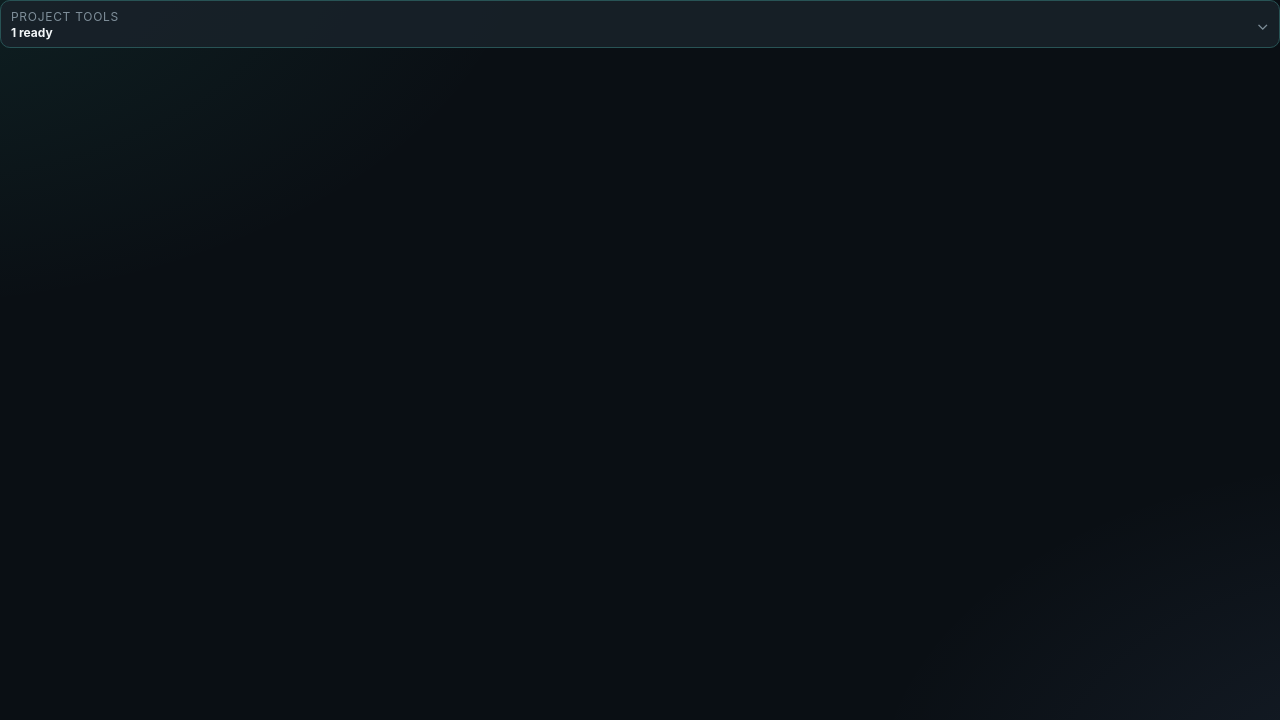
Test: AgentMcpProjectToolsPanel › ignores a late response from the previously active project
Expected: the text "1 ready" is shown, [11,24,53,40]
Click the text "Project tools" at (65, 16), box [11,9,119,24]
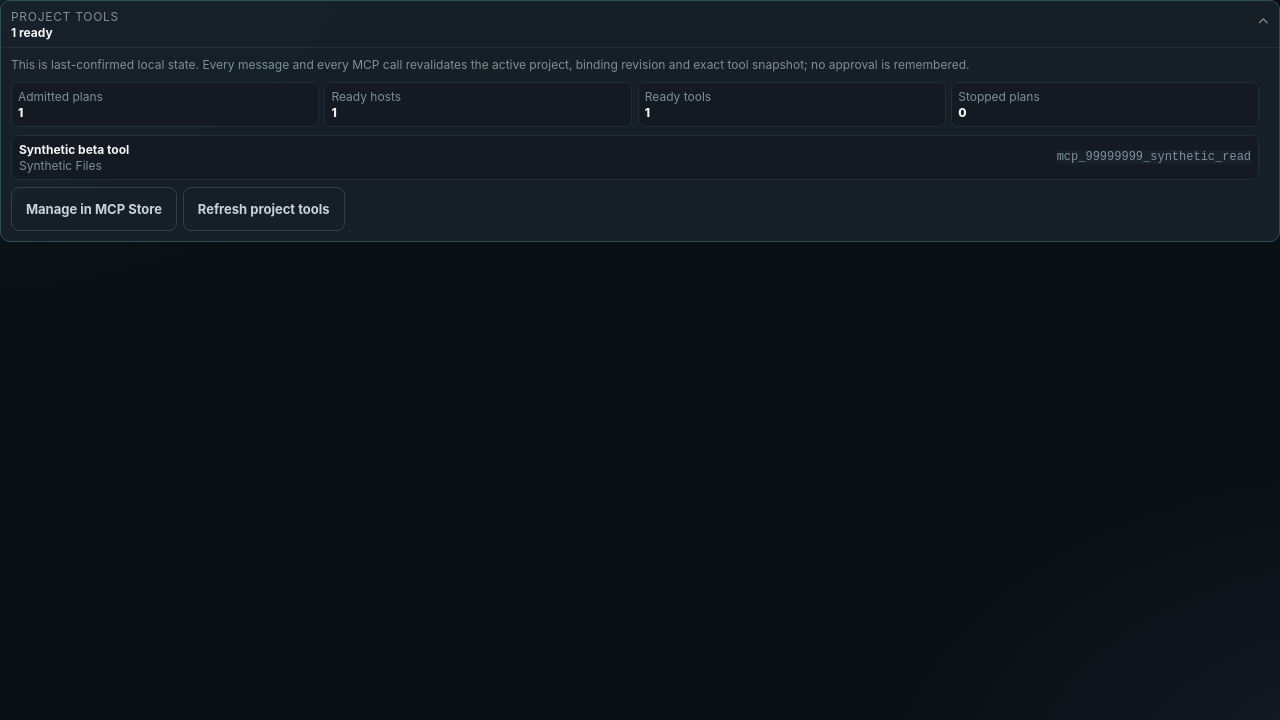
Now the text "Synthetic beta tool" is shown, box [19,142,129,157]
